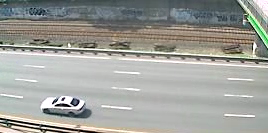car: (38, 94, 92, 119)
